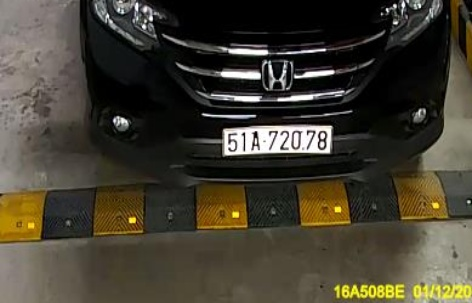plate: (218, 115, 336, 163)
